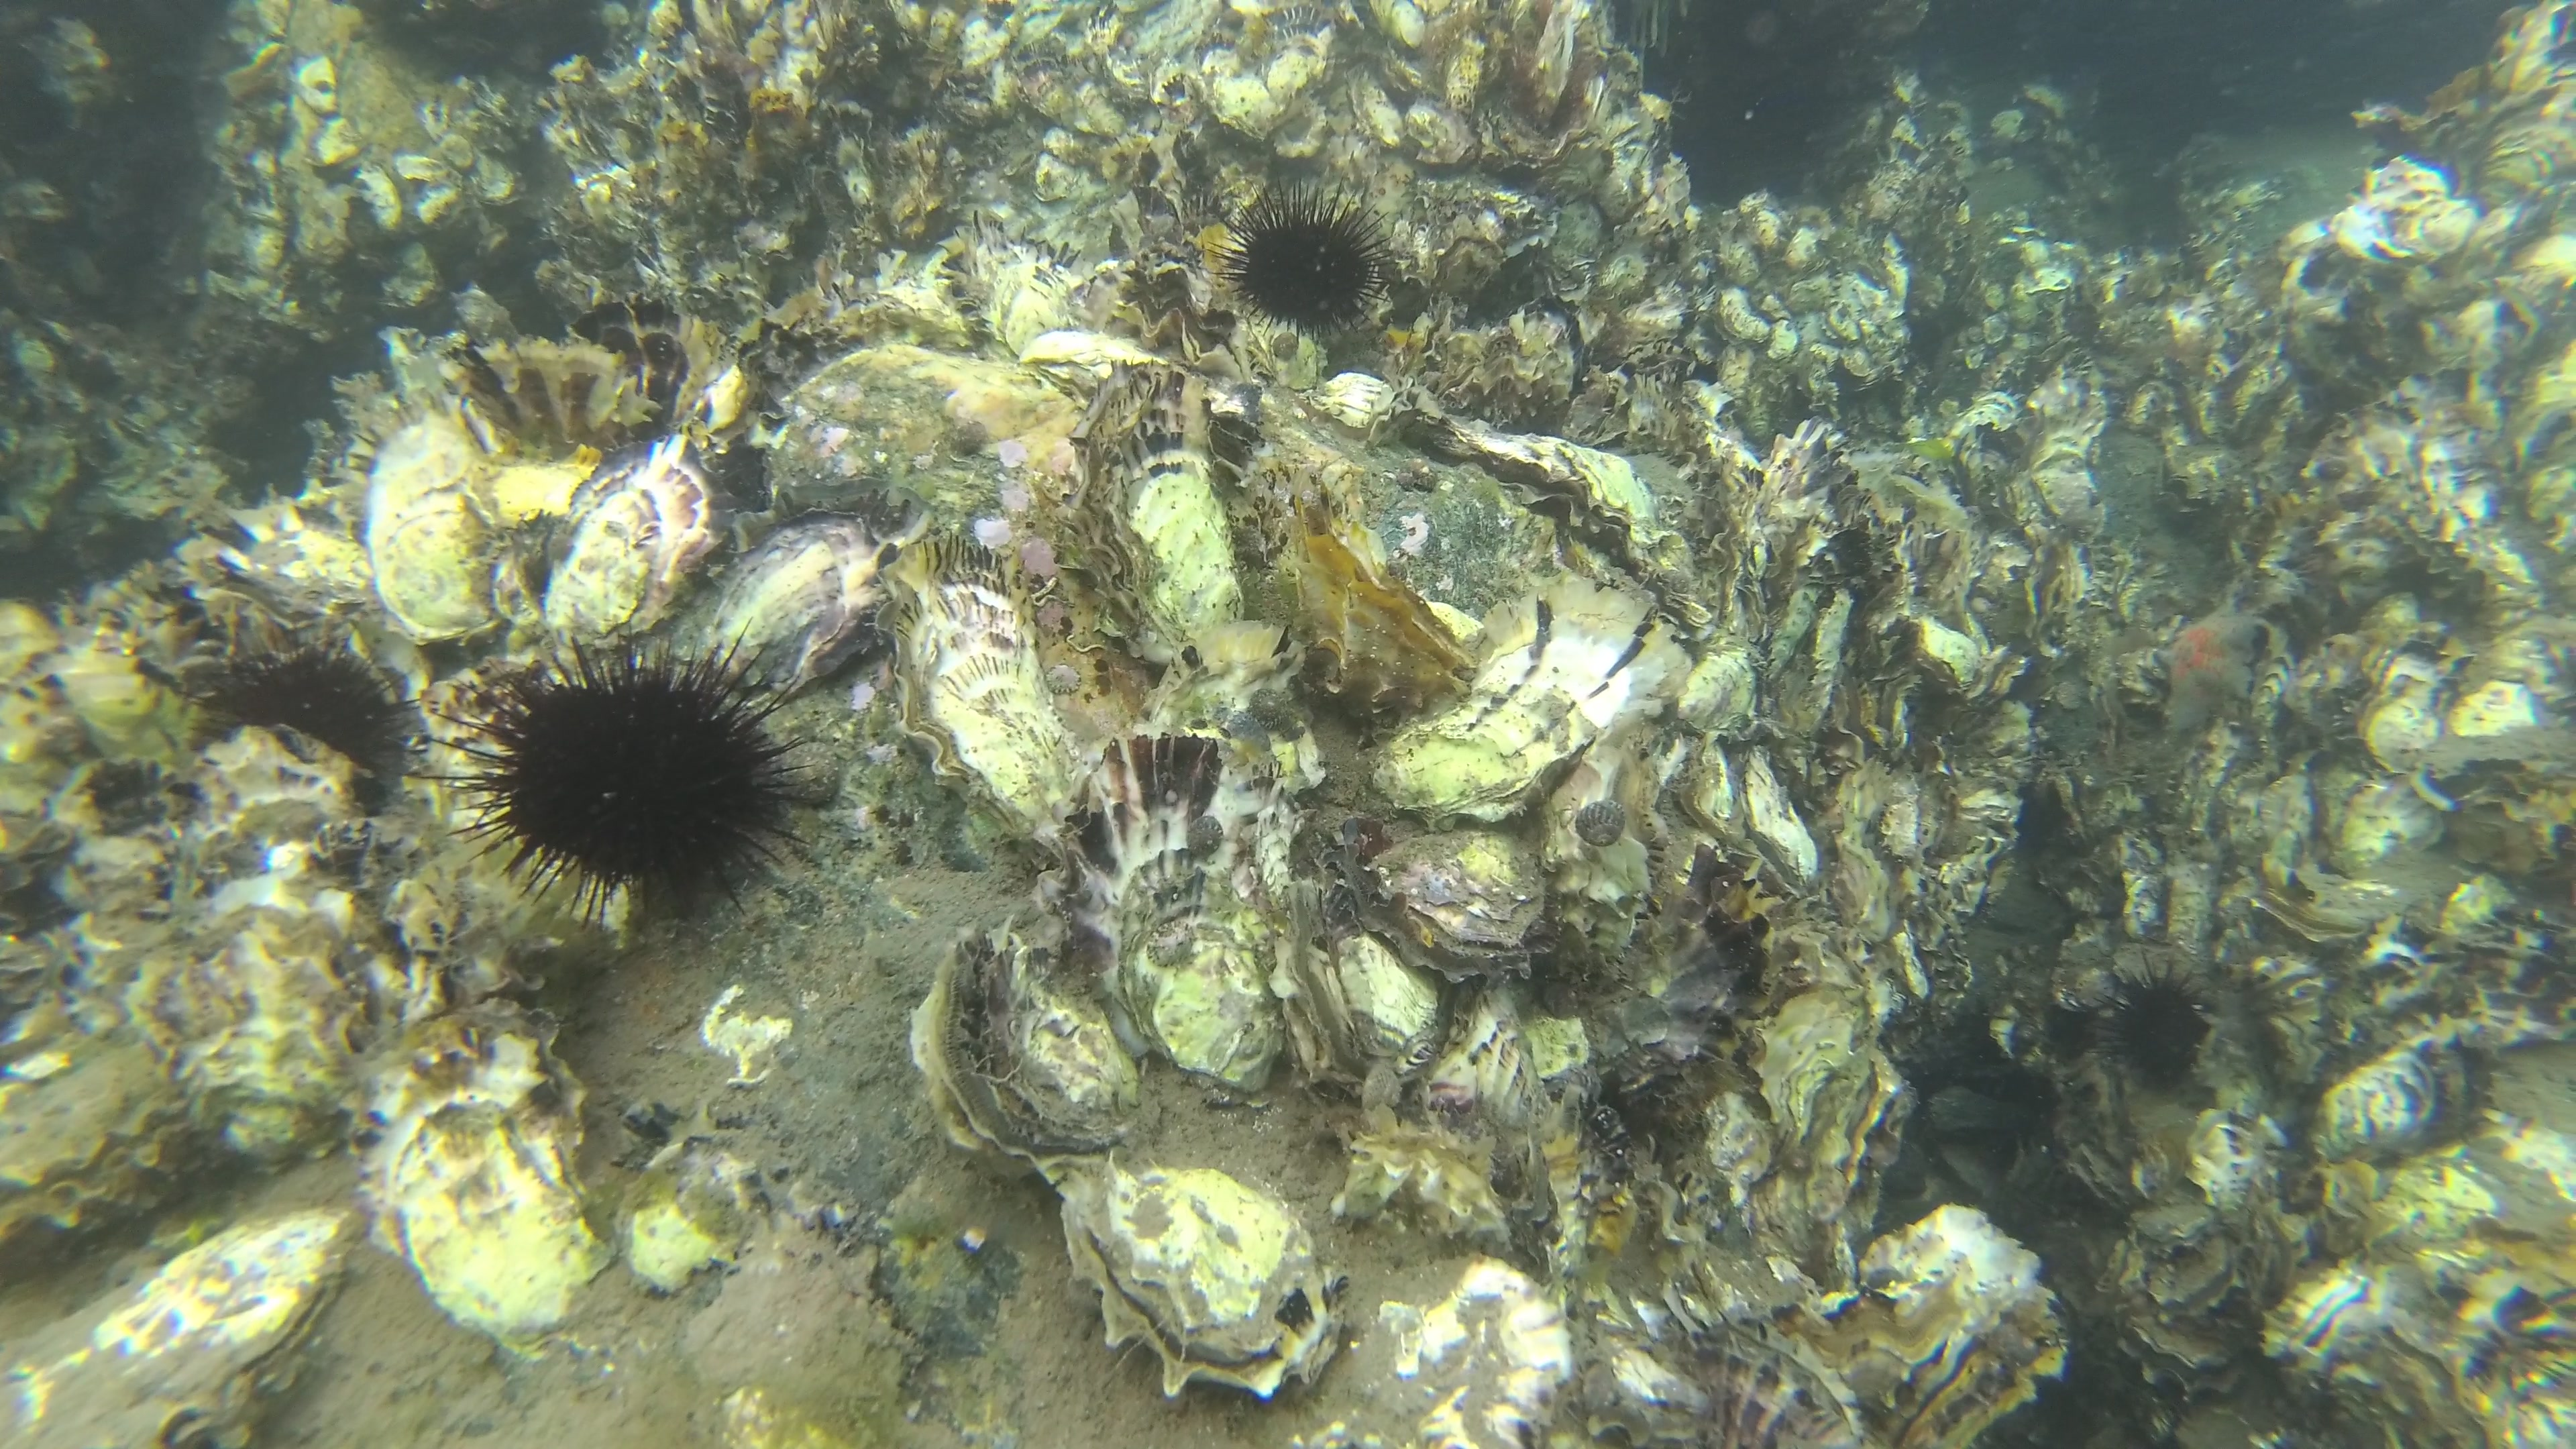echinus: (421, 619, 814, 932), (186, 630, 421, 832), (1219, 179, 1399, 350), (2091, 962, 2213, 1093)
starfish: (2153, 596, 2254, 732)
